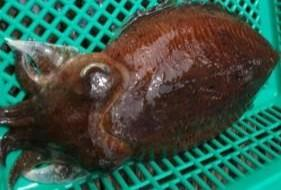Cephalopod: (0, 3, 280, 189)
